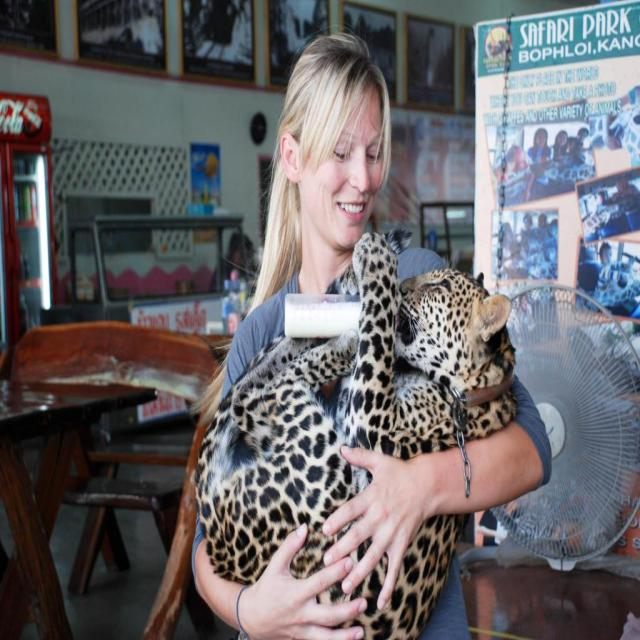Cheetah: (165, 234, 522, 637)
